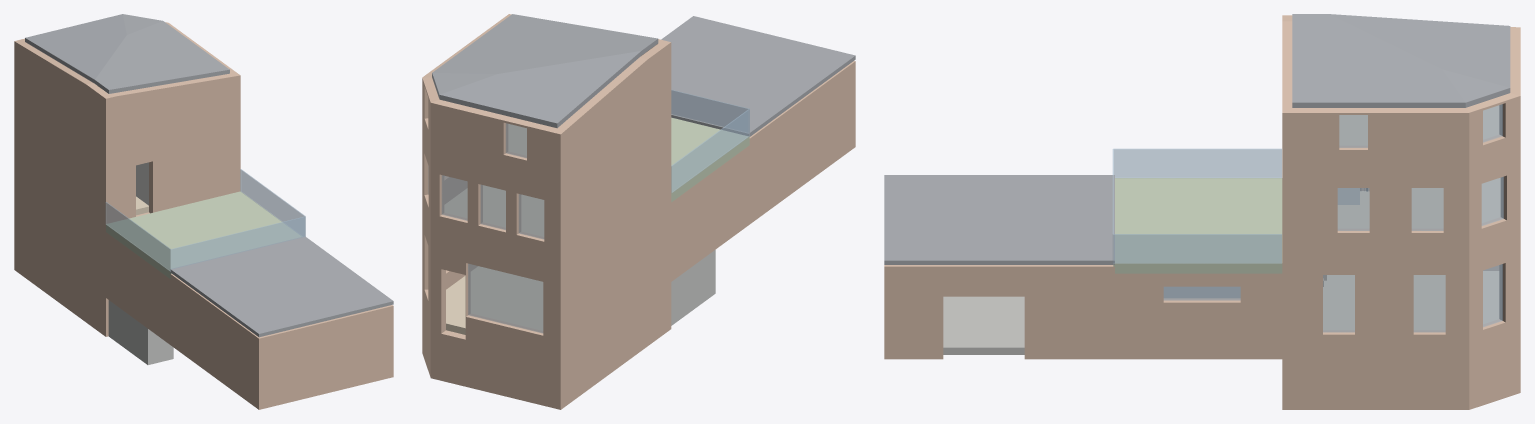
Rendered from maison (3).gltf.
3 renders of one model, left to right at view 1: azimuth 30°, elevation 25°; view 2: azimuth 150°, elevation 25°; view 3: azimuth 270°, elevation 25°, orthographic. The views are drawn at different scales.
Visible parts, largest first — view 1: 1-toiture-garage, 0I, 1-terrasse-projet, 2C, 1C, 0D, 0H, T-pan-cote-b, 2D, 1D, 1-terrasse-projet-garde-corps, 0E (+6 smaller); view 2: 1-toiture-garage, 0D, 0H, 2D, 2A, 1D, T-pan-cote-b, 1A, 0A, SA, 0E, T-pan-cote-a (+18 smaller); view 3: 1-toiture-garage, 0J, 1-terrasse-projet, 0B, 0F, 2B, 1B, T-pan-cote-b, 1-terrasse-projet-garde-corps, SB, 0-garage, T-pan-cote-a (+20 smaller).
Boxes of the visible parts, left/top/right/bottom form: 1-toiture-garage: left=170, top=236, right=393, bottom=337; 0I: left=259, top=305, right=393, bottom=409; 1-terrasse-projet: left=106, top=191, right=301, bottom=279; 2C: left=106, top=73, right=240, bottom=162; 1C: left=106, top=130, right=240, bottom=223; 0D: left=14, top=160, right=105, bottom=297; 0H: left=170, top=274, right=259, bottom=409; T-pan-cote-b: left=67, top=21, right=229, bottom=93; 2D: left=14, top=41, right=108, bottom=162; 1D: left=14, top=96, right=105, bottom=226; 1-terrasse-projet-garde-corps: left=105, top=169, right=305, bottom=271; 0E: left=106, top=232, right=170, bottom=344; 1-toiture-garage: left=661, top=16, right=855, bottom=136; 0D: left=560, top=196, right=671, bottom=362; 0H: left=748, top=61, right=855, bottom=224; 2D: left=557, top=42, right=671, bottom=199; 2A: left=430, top=99, right=560, bottom=199; 1D: left=560, top=119, right=671, bottom=276; T-pan-cote-b: left=433, top=14, right=658, bottom=83; 1A: left=430, top=168, right=560, bottom=276; 0A: left=430, top=245, right=560, bottom=362; SA: left=430, top=330, right=560, bottom=409; 0E: left=671, top=146, right=748, bottom=281; T-pan-cote-a: left=439, top=70, right=608, bottom=128; 1-toiture-garage: left=884, top=175, right=1114, bottom=264; 0J: left=884, top=265, right=1114, bottom=359; 1-terrasse-projet: left=1113, top=178, right=1282, bottom=273; 0B: left=1282, top=266, right=1469, bottom=359; 0F: left=1115, top=273, right=1282, bottom=359; 2B: left=1282, top=108, right=1469, bottom=183; 1B: left=1282, top=183, right=1469, bottom=266; T-pan-cote-b: left=1292, top=14, right=1465, bottom=107; 1-terrasse-projet-garde-corps: left=1112, top=148, right=1281, bottom=263; SB: left=1282, top=359, right=1469, bottom=409; 0-garage: left=943, top=296, right=1024, bottom=354; T-pan-cote-a: left=1399, top=18, right=1510, bottom=87.
Size of the model in its own units: 6.35 by 10.95 by 19.86.
